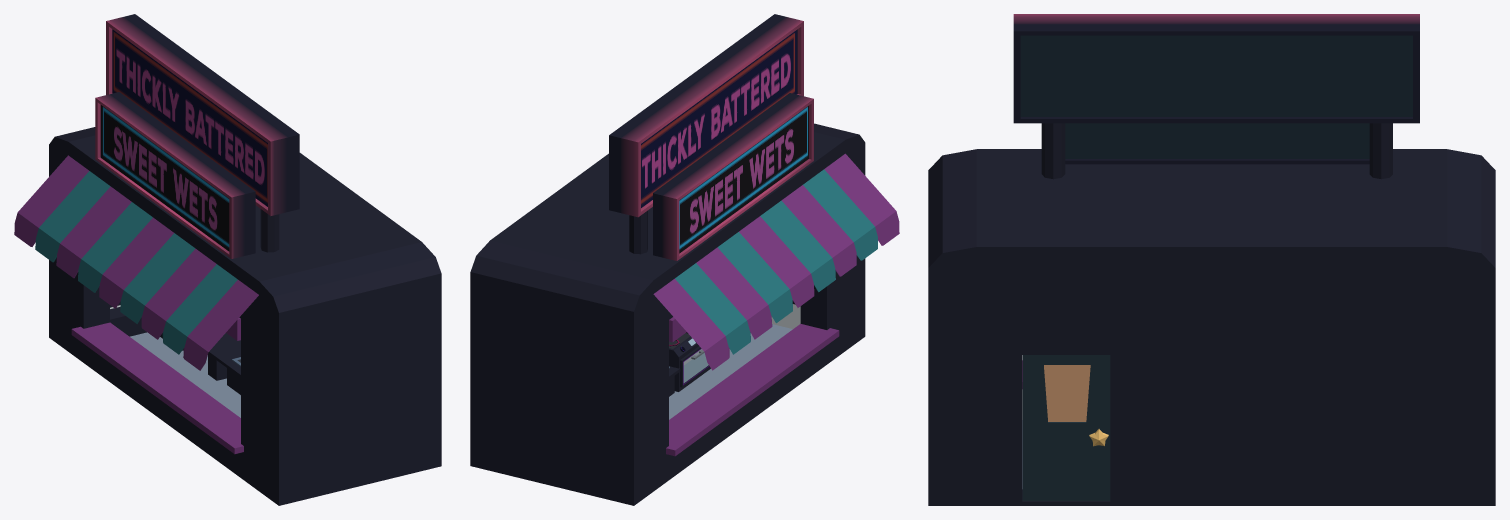
Rendered from Building_StreetCart01.fbx.
The picture shows the model from 3 angles, left to right: view 1: azimuth 30°, elevation 25°; view 2: azimuth 150°, elevation 25°; view 3: azimuth 270°, elevation 25°; orthographic projection. The views are drawn at different scales.
Parts seen in each view (by area): view 1: Cube.723, Cube.727, Cube.728, Cube.732, Cube.735; view 2: Cube.723, Cube.727, Cube.728, Cube.296; view 3: Cube.723, Cube.727, Cube.728, Cube.729.
Boxes of the visible parts, x1,y1,x2,y2 form: Cube.723: [14, 127, 441, 505]; Cube.727: [106, 14, 299, 252]; Cube.728: [95, 92, 255, 258]; Cube.732: [110, 307, 240, 380]; Cube.735: [222, 356, 240, 394]; Cube.723: [470, 123, 899, 505]; Cube.727: [609, 14, 803, 254]; Cube.728: [653, 93, 813, 260]; Cube.296: [669, 332, 710, 391]; Cube.723: [928, 149, 1495, 505]; Cube.727: [1013, 14, 1419, 179]; Cube.728: [1065, 123, 1369, 164]; Cube.729: [1022, 355, 1110, 500].
Bounding box in the file's own units: 233 × 336 × 414.
